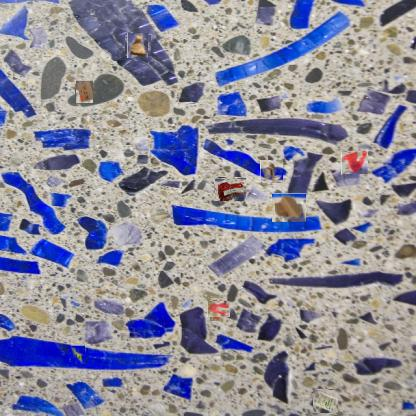dirty: (272, 193, 306, 222), (214, 178, 246, 202), (313, 389, 338, 415), (260, 160, 283, 184), (126, 34, 150, 57), (75, 80, 93, 103), (70, 347, 87, 363)
liquid: (341, 152, 368, 176), (209, 300, 228, 319)
